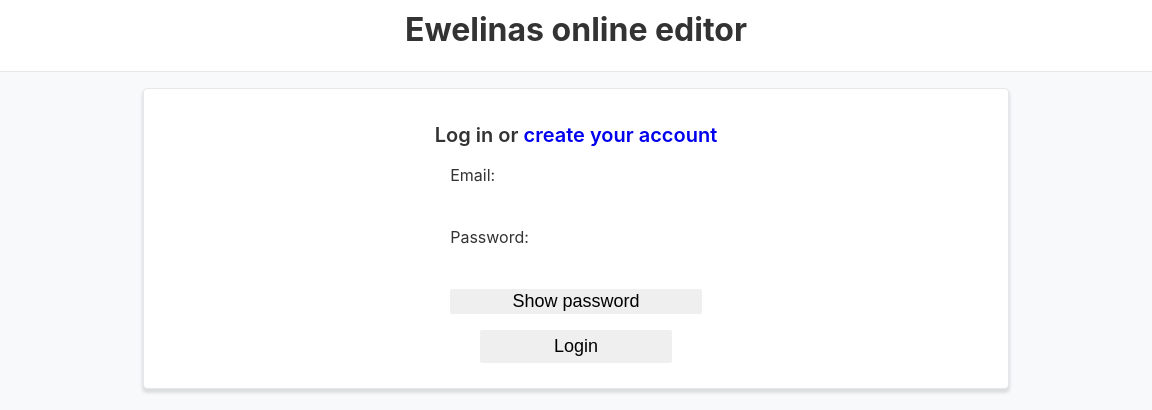
Test: clicking link "create your account" renders register
The width and height of the screenshot is (1152, 410).
Click the link "create your account". click: (620, 135)
box: [524,123,717,147]
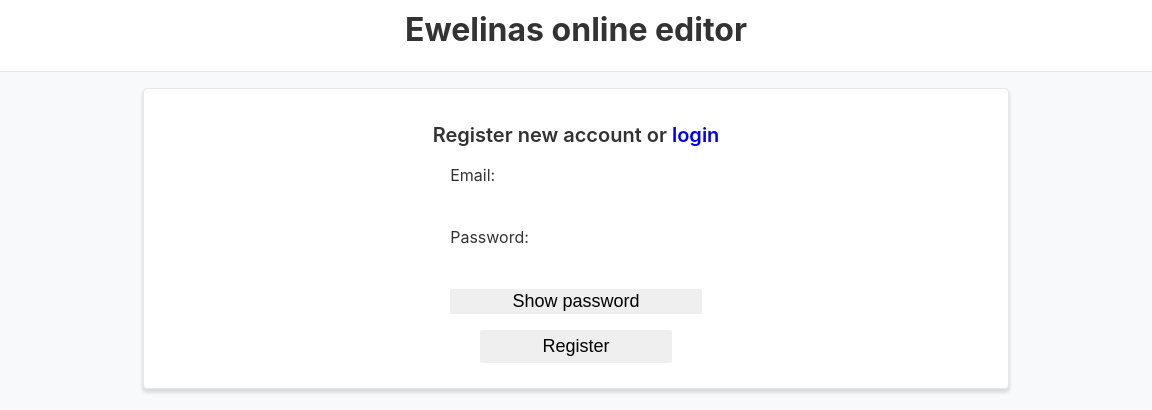
Expected: the button "Register" is shown, [480,330,672,363]
